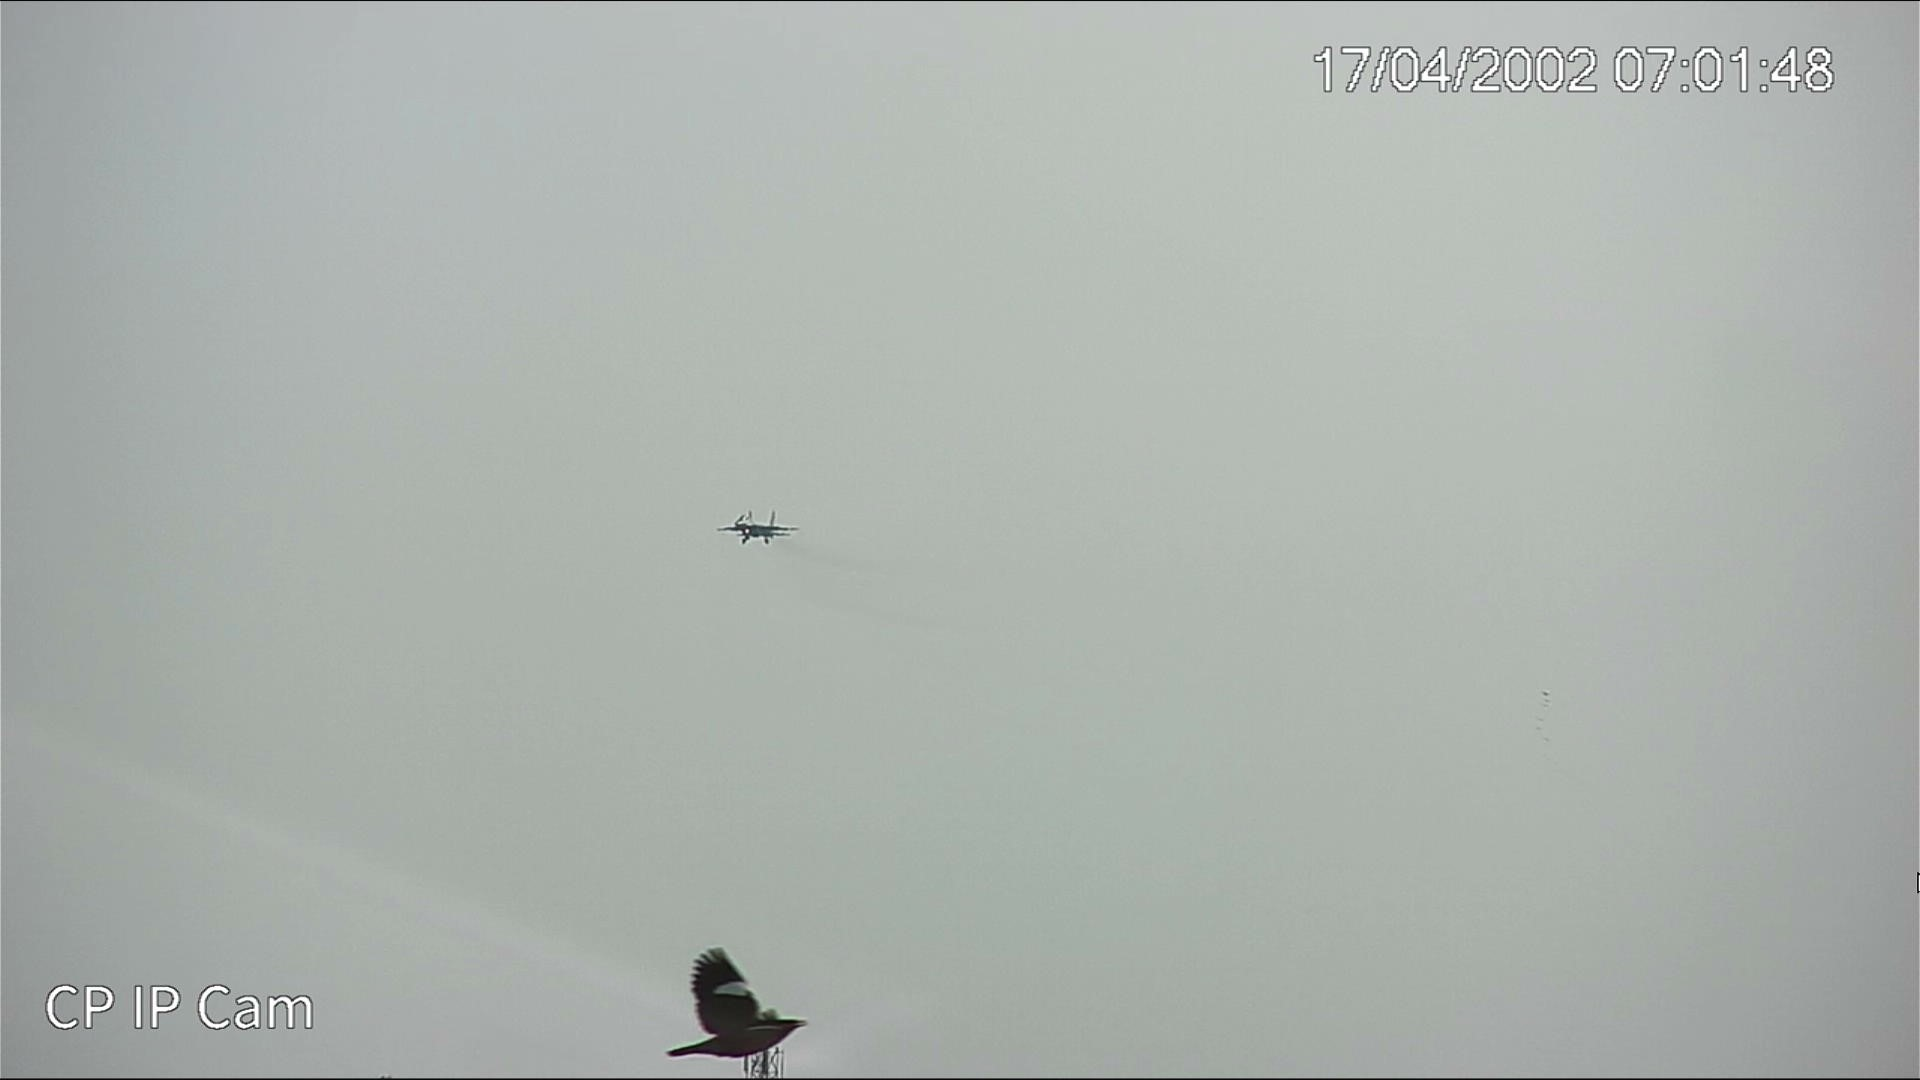SU_30: (716, 509, 798, 545)
